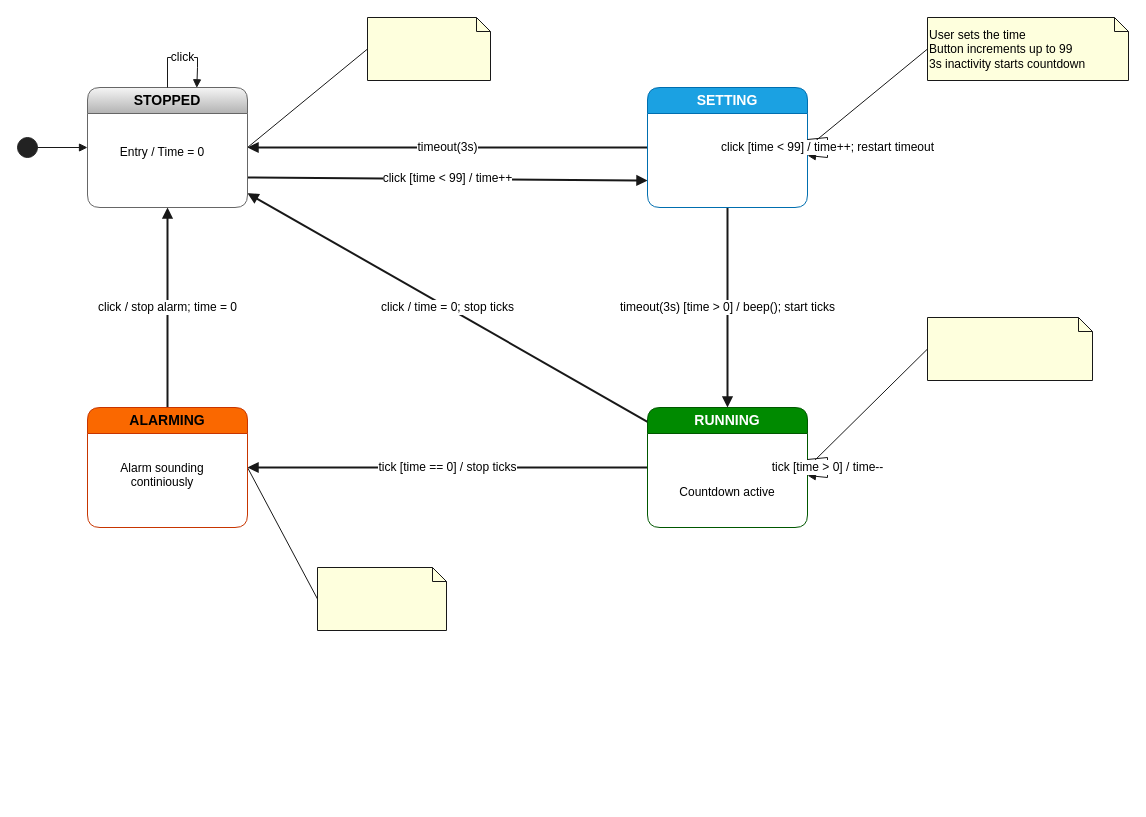
Some shapes in this 1146 by 817 pixel diagram are drawn without their labels. The centre of each missing label's shape, as x and y in pixels:
"Continuous beeping Button stops alarm Returns to STOPPED" goes at (x=381, y=598).
"Initial state Timer is inactive Time remains at 0" goes at (x=428, y=48).
"Timer counting down 1-second ticks active Button cancels countdown" goes at (x=1009, y=348).
